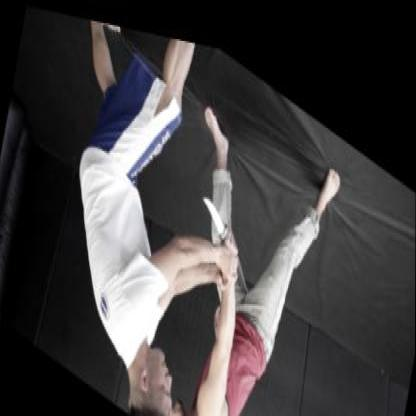knife: (196, 175, 247, 248)
